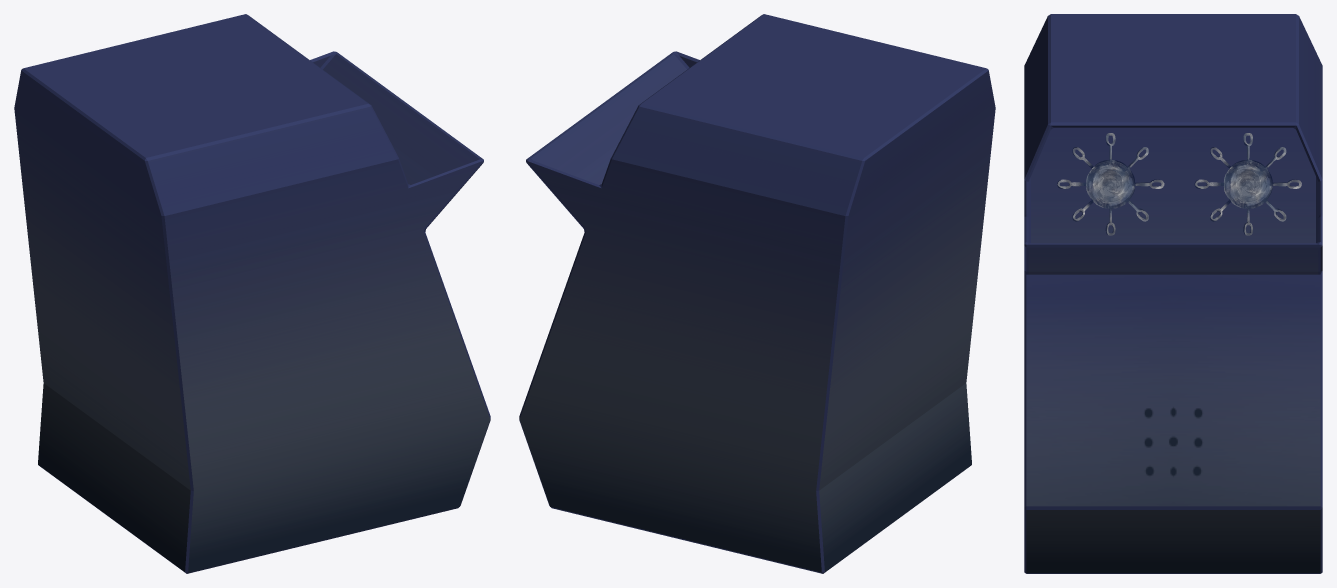
Rendered from bubbler.fbx.
The picture shows the model from 3 angles, left to right: view 1: azimuth 30°, elevation 25°; view 2: azimuth 150°, elevation 25°; view 3: azimuth 270°, elevation 25°; orthographic projection.
Parts seen in each view (by area): view 1: BB_Body; view 2: BB_Body; view 3: BB_Body, BB_Fan_2, BB_Fan_1.
Boxes of the visible parts, x1,y1,x2,y2 form: BB_Body: [14, 14, 490, 573]; BB_Body: [519, 14, 995, 573]; BB_Body: [1024, 14, 1322, 573]; BB_Fan_2: [1057, 133, 1164, 235]; BB_Fan_1: [1194, 133, 1301, 235].
Bounding box in the file's own units: 422 × 500 × 327.
